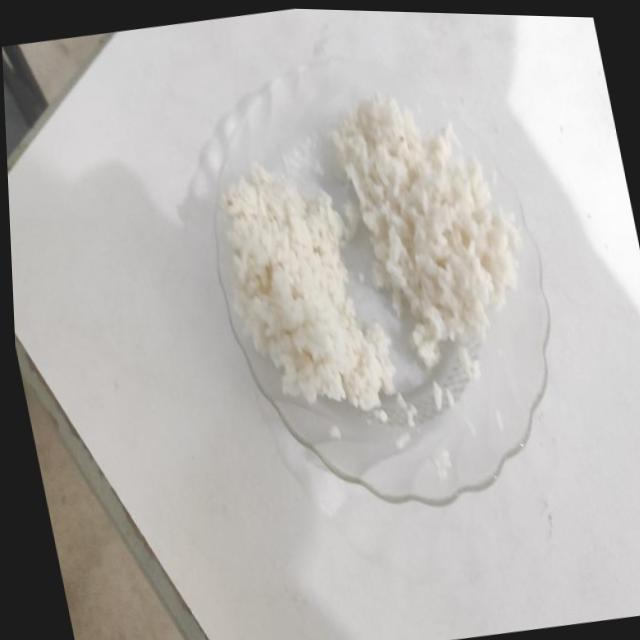nasi_putih: (332, 98, 520, 367), (222, 164, 396, 408)
